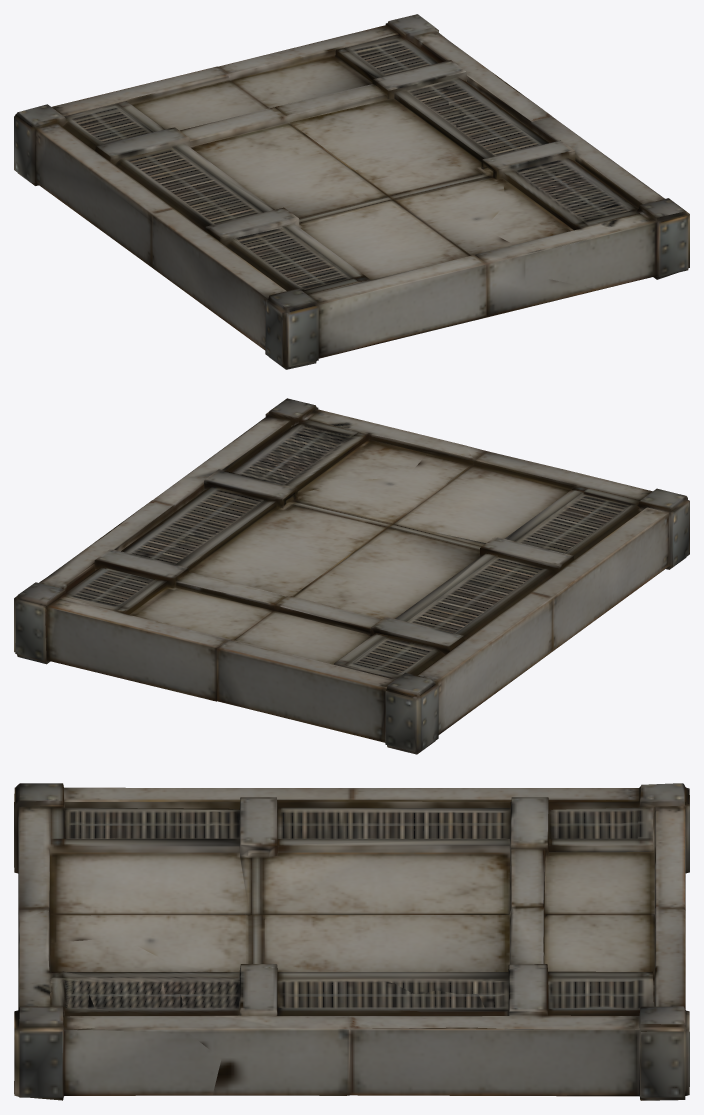
Rendered from ceiling.glb.
The picture shows the model from 3 angles, top to bottom: view 1: azimuth 30°, elevation 25°; view 2: azimuth 150°, elevation 25°; view 3: azimuth 270°, elevation 25°; orthographic projection. The views are drawn at different scales.
Parts seen in each view (by area): view 1: convert; view 2: convert; view 3: convert.
Boxes of the visible parts, box(x1,y1,x2,y2) form: convert: box(14, 14, 689, 369); convert: box(14, 398, 689, 754); convert: box(14, 783, 689, 1100).
Bounding box in the file's own units: 0.7864 × 0.1153 × 0.9141.
1 material, 1 textured.
